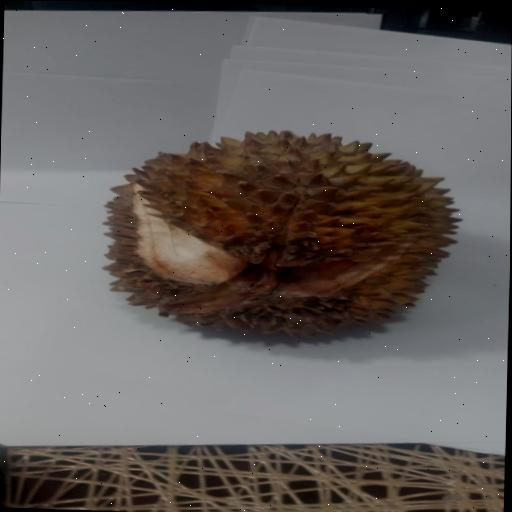rot: (72, 115, 472, 360)
